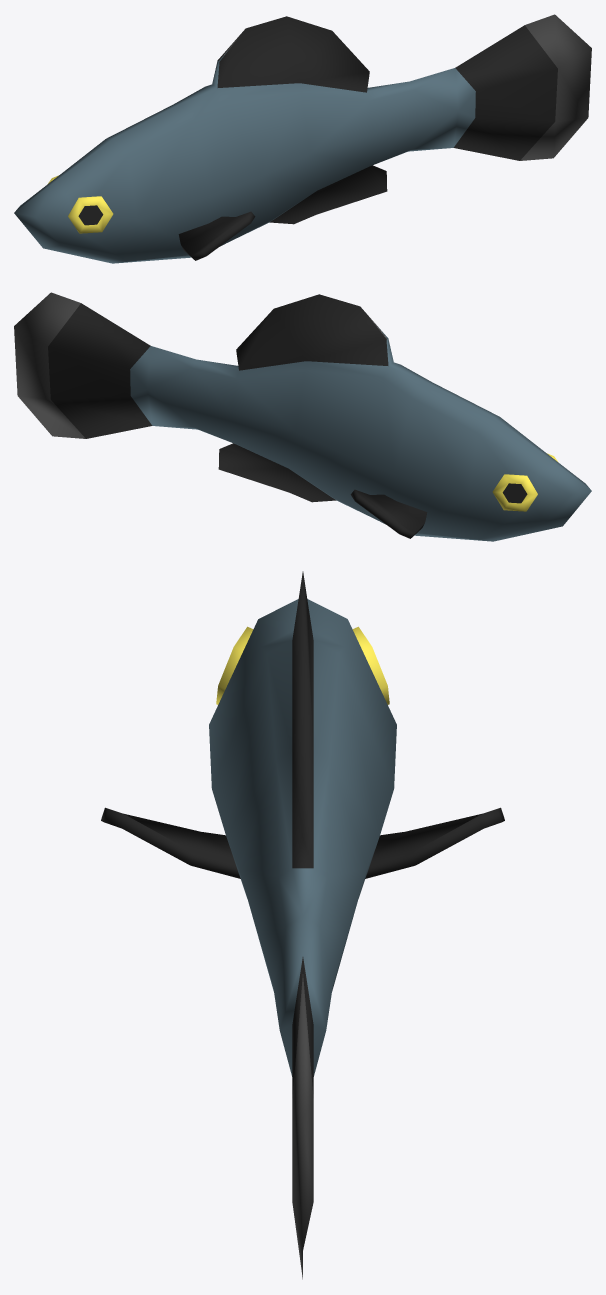
File: Fish_020.fbx
3 renders of one model, top to bottom at view 1: azimuth 30°, elevation 25°; view 2: azimuth 150°, elevation 25°; view 3: azimuth 270°, elevation 25°, orthographic. The views are drawn at different scales.
Visible parts, largest first — view 1: Fish_020; view 2: Fish_020; view 3: Fish_020.
Part boxes in pixels (x1,y1,x2,y2): Fish_020: [14, 14, 591, 263]; Fish_020: [14, 292, 591, 541]; Fish_020: [101, 571, 504, 1279].
Bounding box in the file's own units: 61.49 × 18.63 × 22.29.
Materials: 1 (1 with a texture image).
